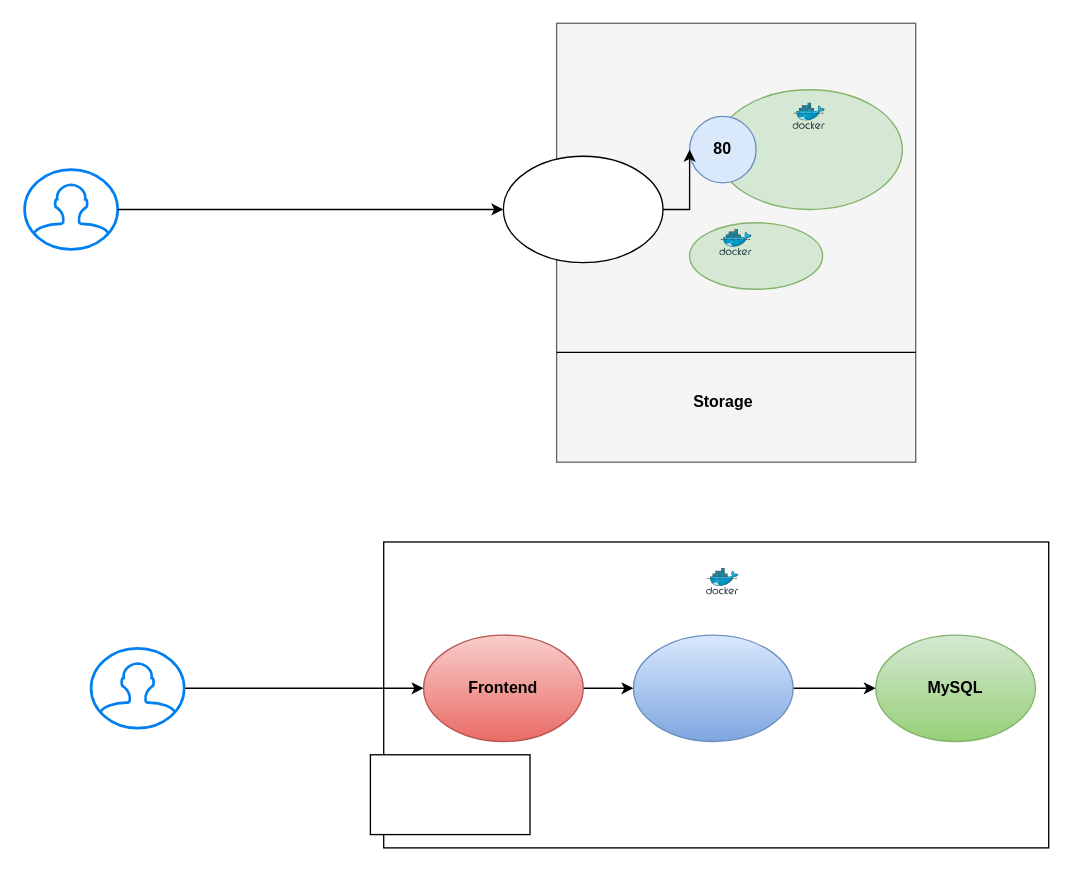
Some shapes in this 1072 by 871 pixel diagram are drawn without their labels. Each missing label, with the box of its shape:
Backend: (632, 634, 793, 741)
host port: (502, 155, 663, 263)
